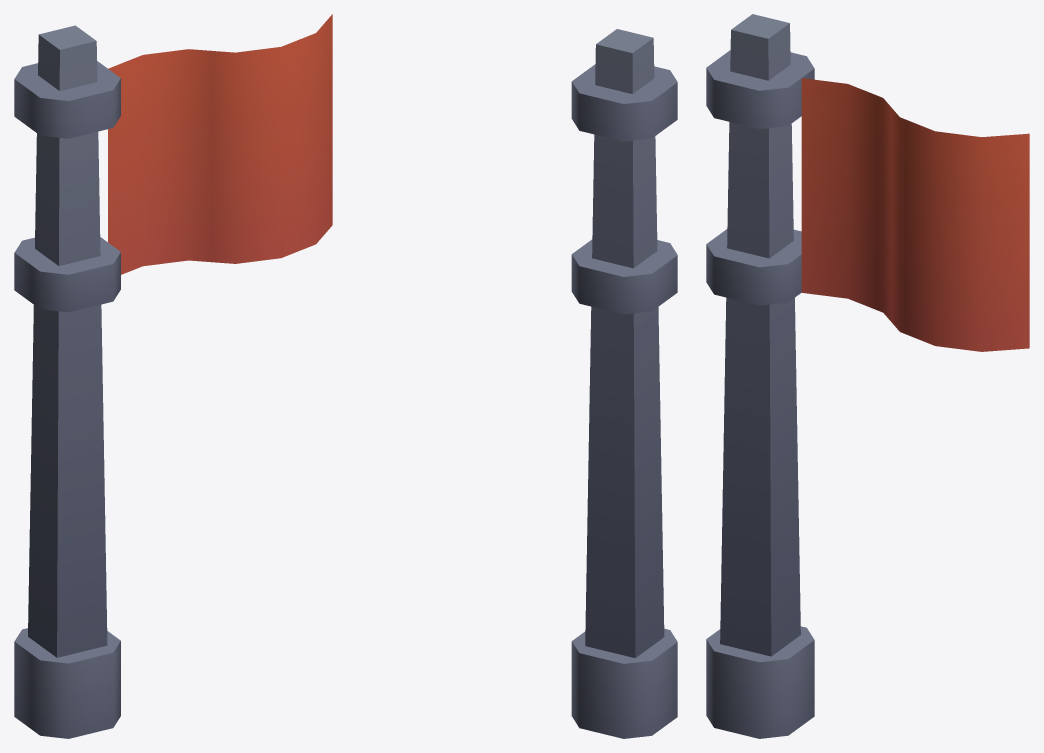
File: kenney-platformer-flag.glb
3 views of the same model, side by side, from view 1: azimuth 30°, elevation 25°; view 2: azimuth 150°, elevation 25°; view 3: azimuth 330°, elevation 25° (orthographic). The views are drawn at different scales.
Visible parts, largest first — view 1: flag; view 2: flag; view 3: flag.
Boxes of the visible parts, left/top/right/bottom form: flag: left=14, top=14, right=332, bottom=738; flag: left=571, top=29, right=677, bottom=738; flag: left=706, top=14, right=1029, bottom=738.
Bounding box in the file's own units: 0.4235 × 0.9 × 0.112.
1 material, 1 textured.
